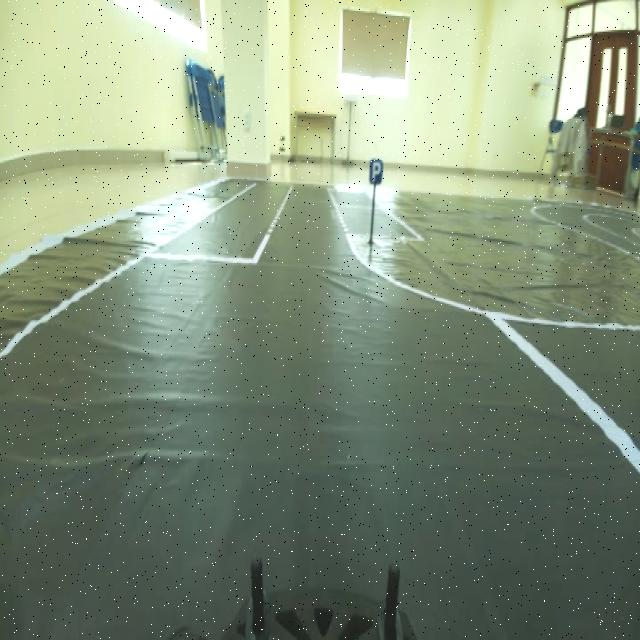parking: (357, 150, 388, 195)
